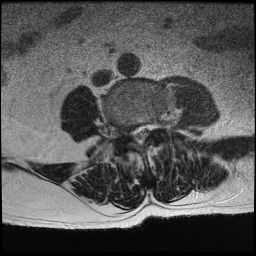CCS_normal: (136, 118, 143, 152)
LFS_normal: (150, 112, 158, 135)
LLS_normal: (143, 116, 150, 142)
RFS_severe_stenosis: (121, 122, 130, 142)
RLS_stenosis: (129, 119, 136, 142)
